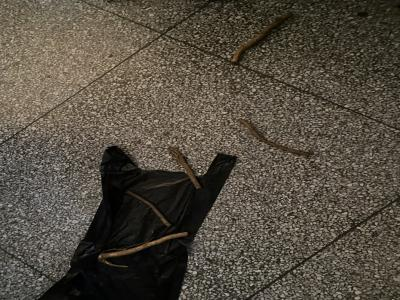Root: (97, 232, 188, 267), (231, 12, 291, 63), (238, 119, 312, 156), (126, 191, 171, 226), (168, 147, 201, 189)
